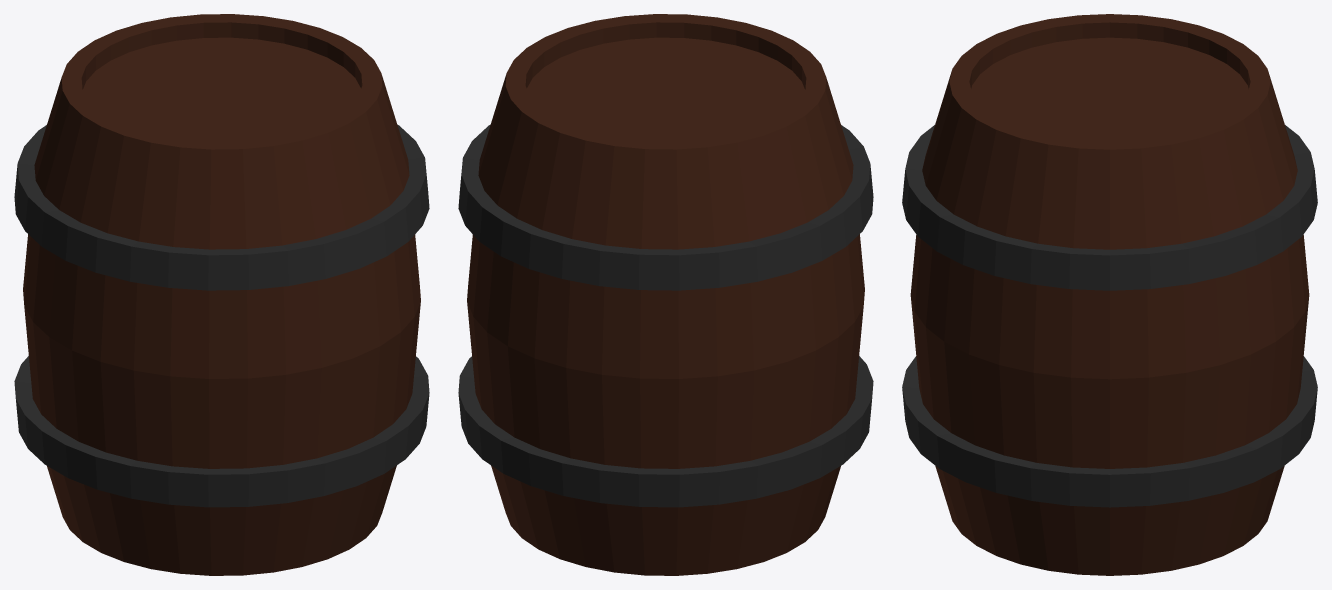
The model's file is Barrel.obj.
The picture shows the model from 3 angles, left to right: view 1: azimuth 30°, elevation 25°; view 2: azimuth 150°, elevation 25°; view 3: azimuth 270°, elevation 25°; orthographic projection.
Visible parts, largest first — view 1: Cylinder.002; view 2: Cylinder.002; view 3: Cylinder.002.
Part boxes in pixels (x1=…): Cylinder.002: x1=14, y1=14, x2=429, y2=575; Cylinder.002: x1=458, y1=14, x2=873, y2=575; Cylinder.002: x1=902, y1=14, x2=1317, y2=575.
Size of the model in its own units: 2.09 by 2.36 by 2.09.
